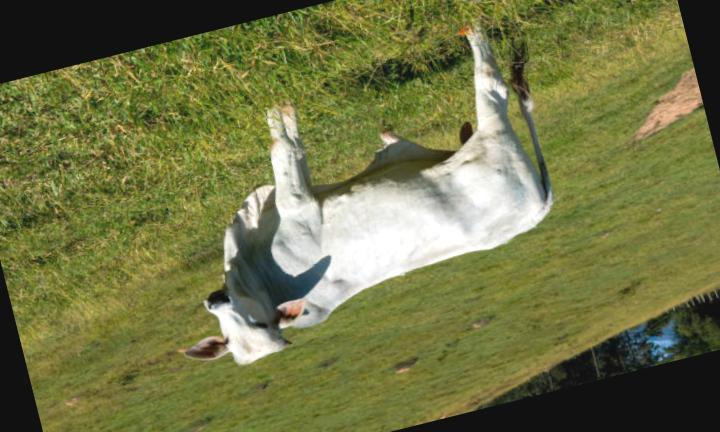Brahman: (187, 27, 552, 364)
